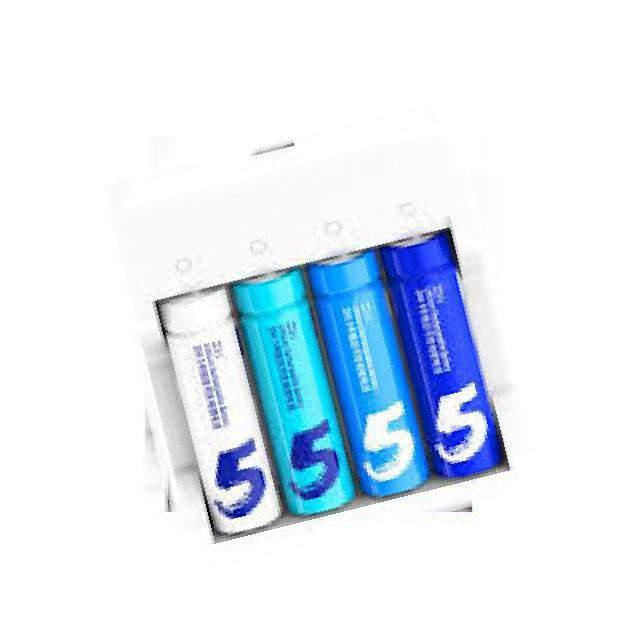Battery: (150, 279, 288, 544), (226, 262, 365, 523), (374, 226, 511, 487), (310, 242, 441, 507)
